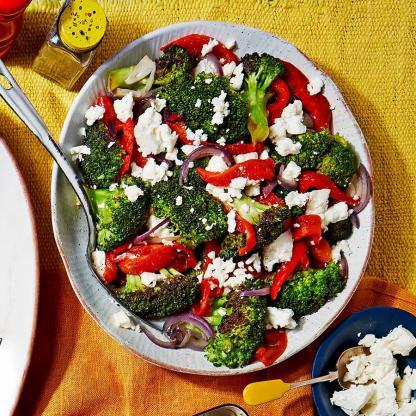broccoli: (77, 52, 359, 367)
